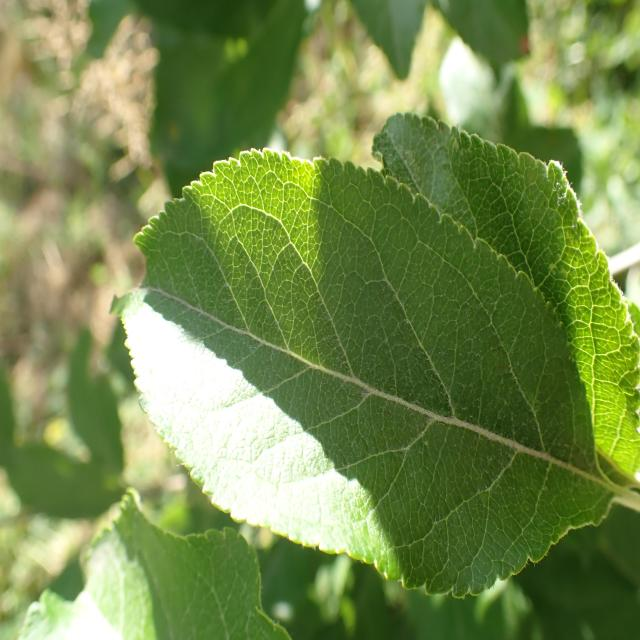healthy: (109, 109, 639, 598), (16, 486, 293, 640)
